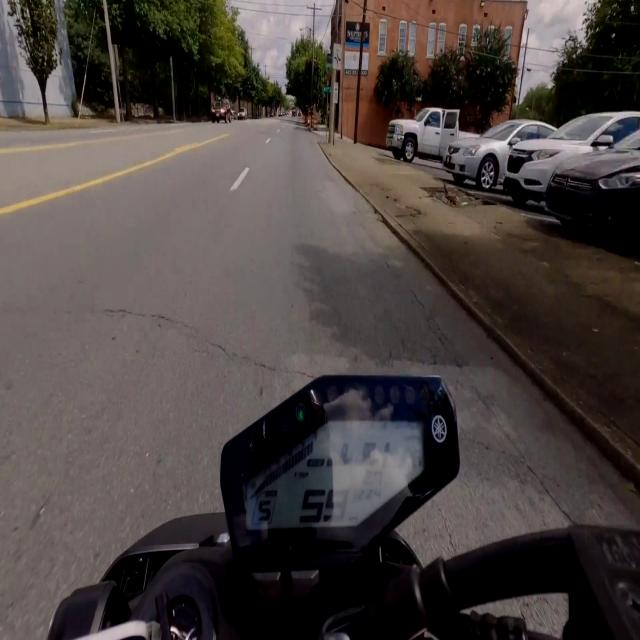car: (503, 111, 639, 205), (545, 131, 639, 233), (443, 120, 555, 190), (382, 104, 483, 160), (212, 99, 231, 122), (237, 107, 247, 121)
motorcycle: (48, 376, 639, 639)
